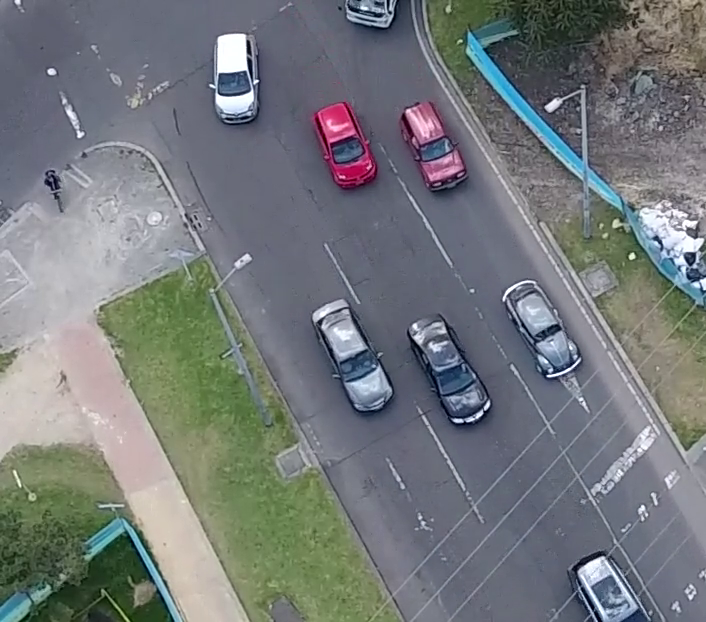car: (308, 291, 396, 427), (405, 313, 495, 430), (498, 273, 583, 381), (395, 99, 471, 195), (308, 97, 377, 193), (203, 22, 262, 125)
